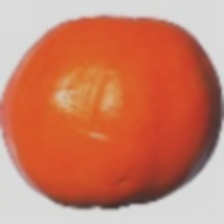tangerine: (44, 20, 202, 213)
